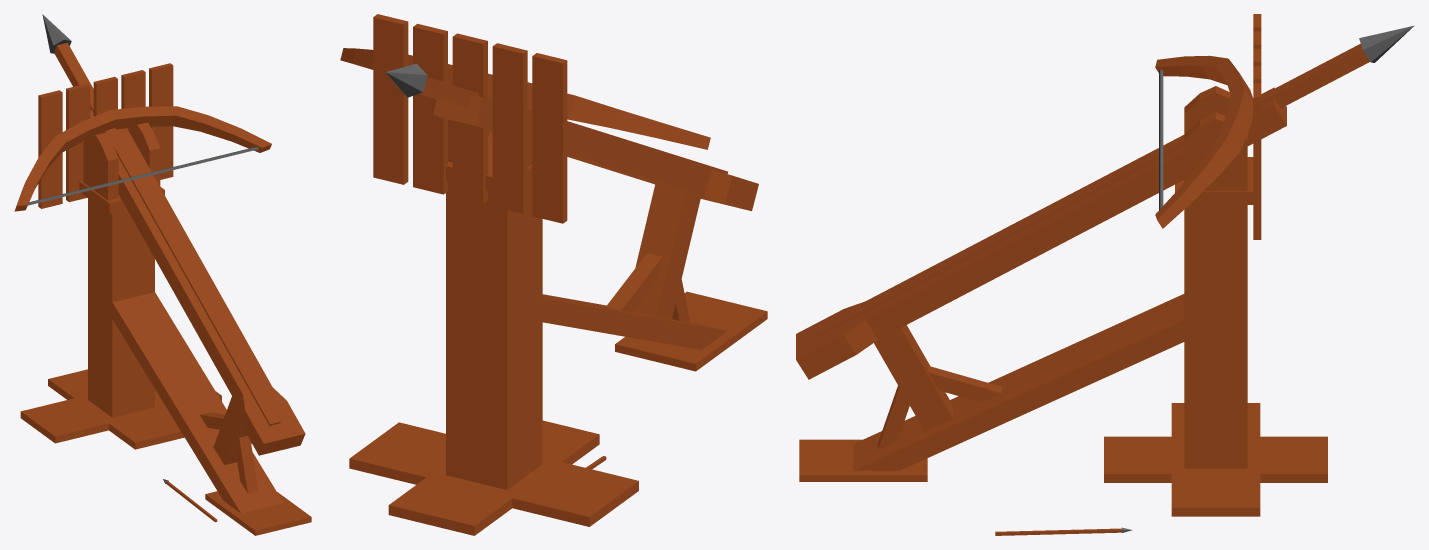
Rendered from balista.fbx.
The picture shows the model from 3 angles, left to right: view 1: azimuth 30°, elevation 25°; view 2: azimuth 150°, elevation 25°; view 3: azimuth 270°, elevation 25°; orthographic projection. The views are drawn at different scales.
Visible parts, largest first — view 1: balista, balista_shield, Circle.001, arrow; view 2: balista, balista_shield, Circle.001, arrow; view 3: balista, arrow, Circle.001, balista_shield.
Part boxes in pixels (<box>): balista: <box>20,110,311,535</box>; balista_shield: <box>38,63,173,208</box>; Circle.001: <box>14,106,271,211</box>; arrow: <box>42,14,280,425</box>; balista: <box>349,82,767,535</box>; balista_shield: <box>373,14,567,223</box>; Circle.001: <box>340,48,710,149</box>; arrow: <box>385,63,727,173</box>; balista: <box>796,86,1327,516</box>; arrow: <box>815,25,1414,337</box>; Circle.001: <box>1155,55,1253,228</box>; balista_shield: <box>1253,14,1261,239</box>.
Bounding box in the file's own units: 480 × 702 × 783.
